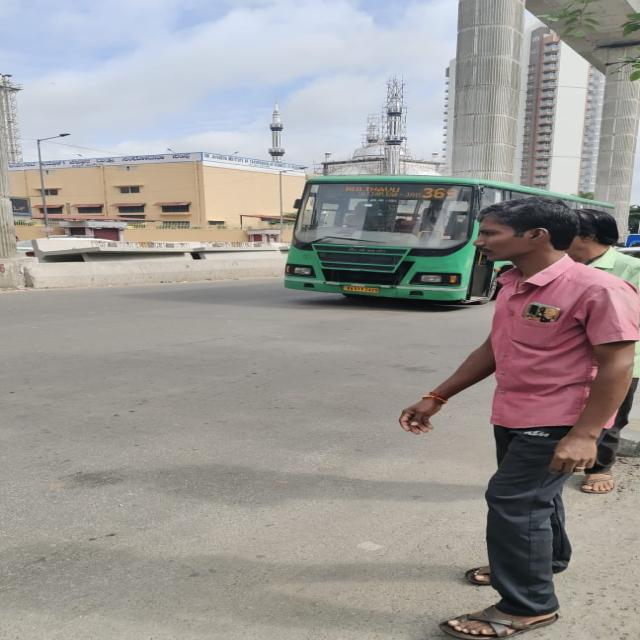bus: (275, 168, 492, 304)
display: (331, 182, 464, 200)
dnumber: (420, 186, 459, 200)
